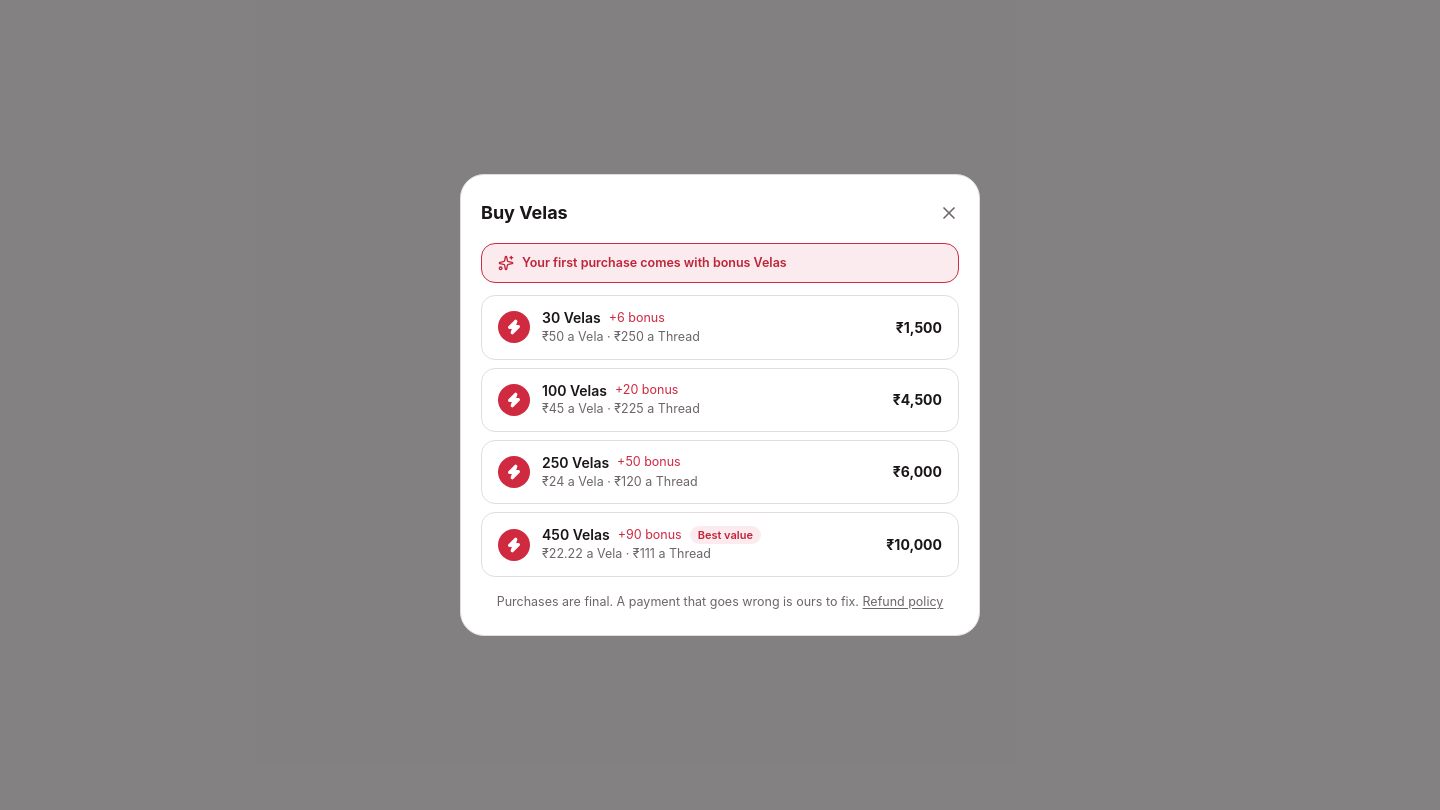
an order that can't open a window: nothing was charged › refused with PROVIDER_UNAVAILABLE, it says so
Click the button "30 Velas +6 bonus ₹50 a Vela · ₹250 a Thread ₹1,500". click: (514, 327)
box: [481,295,959,360]
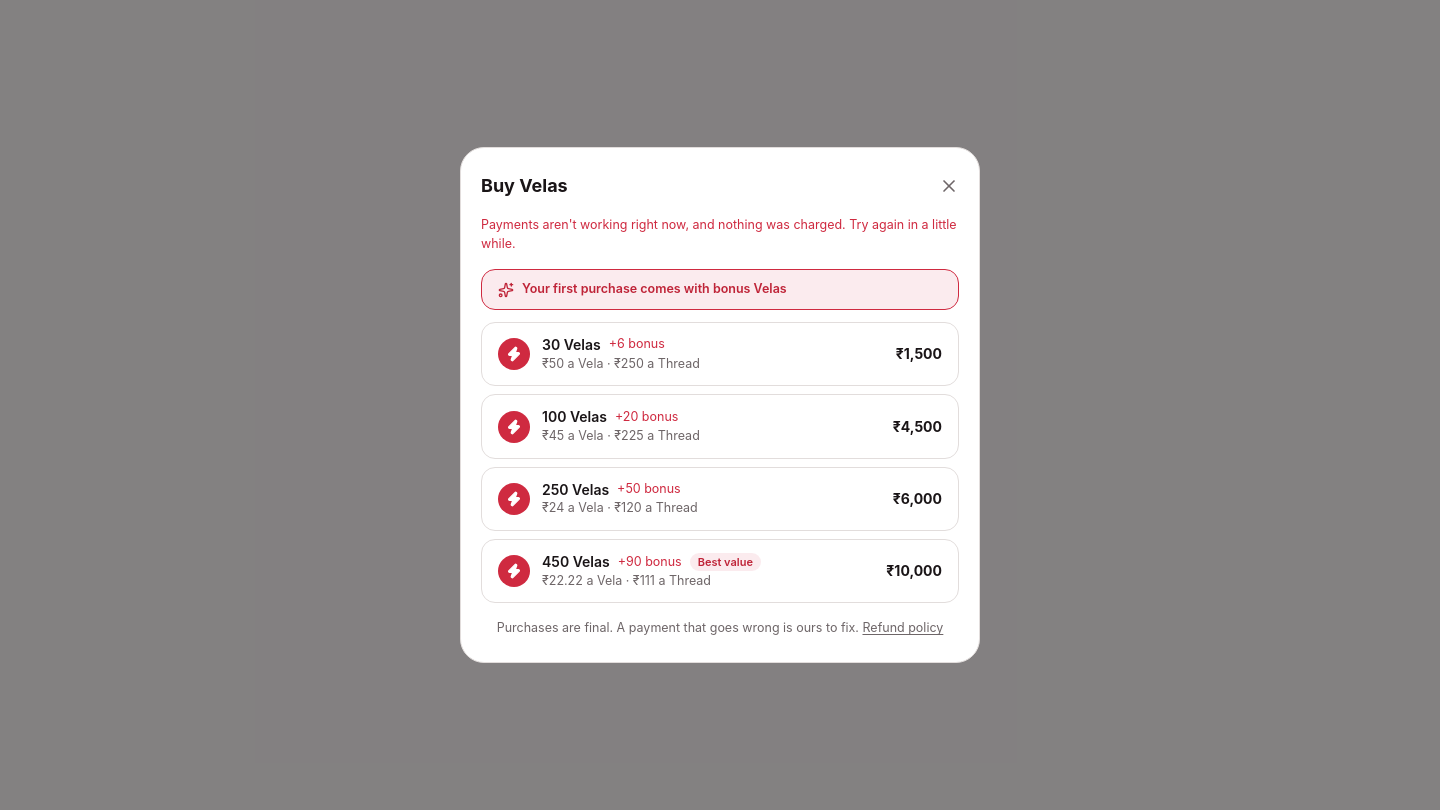
Expected: the message shows "Payments aren't working right now, and nothing was charged. Try again in a little while.", [481,217,957,251]
